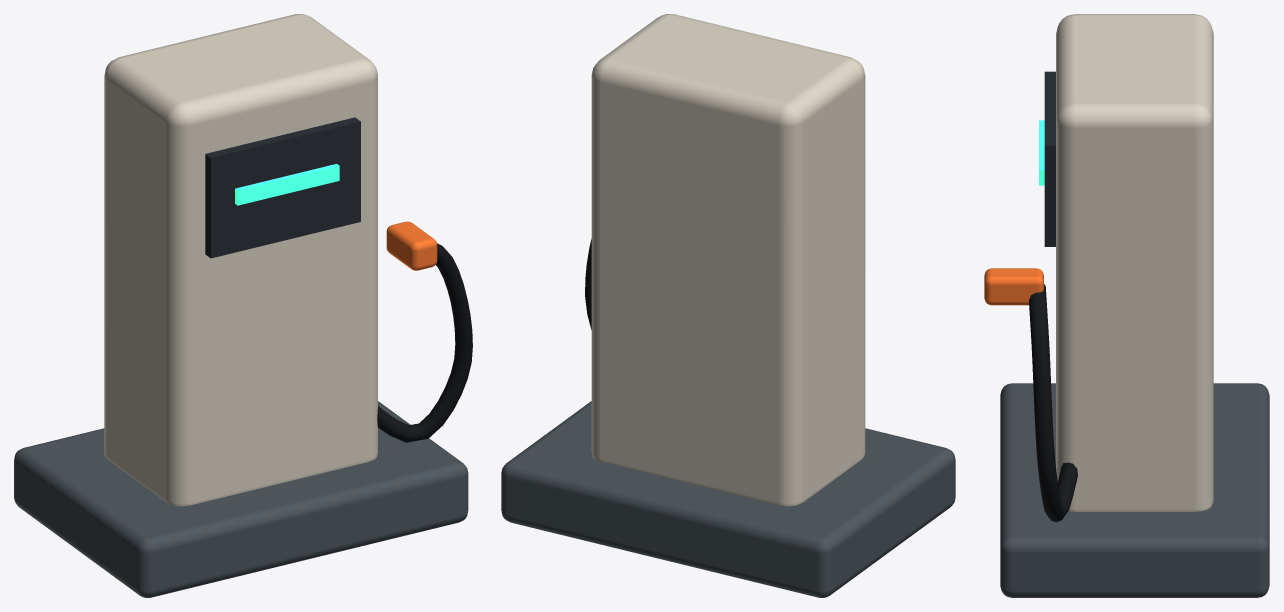
Rendered from base-boss-charge-post.glb.
The picture shows the model from 3 angles, left to right: view 1: azimuth 30°, elevation 25°; view 2: azimuth 150°, elevation 25°; view 3: azimuth 270°, elevation 25°; orthographic projection.
Visible parts, largest first — view 1: base-boss-charge-post-warm-ceramic-insulation, base-boss-charge-post-floor-grate, base-boss-charge-post-dark-polymer, base-boss-charge-post-rubber, charge_status-led-green, charge_handle-safety-orange; view 2: base-boss-charge-post-warm-ceramic-insulation, base-boss-charge-post-floor-grate; view 3: base-boss-charge-post-warm-ceramic-insulation, base-boss-charge-post-floor-grate, base-boss-charge-post-rubber, base-boss-charge-post-dark-polymer, charge_handle-safety-orange, charge_status-led-green.
Boxes of the visible parts, box(x1,y1,x2,y2) form: base-boss-charge-post-warm-ceramic-insulation: box(104, 14, 377, 506); base-boss-charge-post-floor-grate: box(14, 401, 468, 597); base-boss-charge-post-dark-polymer: box(205, 117, 360, 258); base-boss-charge-post-rubber: box(377, 243, 472, 442); charge_status-led-green: box(235, 164, 339, 205); charge_handle-safety-orange: box(386, 221, 437, 270); base-boss-charge-post-warm-ceramic-insulation: box(591, 14, 865, 506); base-boss-charge-post-floor-grate: box(501, 401, 955, 597); base-boss-charge-post-warm-ceramic-insulation: box(1056, 14, 1213, 511); base-boss-charge-post-floor-grate: box(1000, 383, 1269, 597); base-boss-charge-post-rubber: box(1029, 284, 1077, 522); base-boss-charge-post-dark-polymer: box(1044, 71, 1055, 246); charge_handle-safety-orange: box(984, 268, 1043, 305); charge_status-led-green: box(1039, 120, 1044, 185).
Size of the model in its own units: 1.17 by 1.45 by 0.815.
